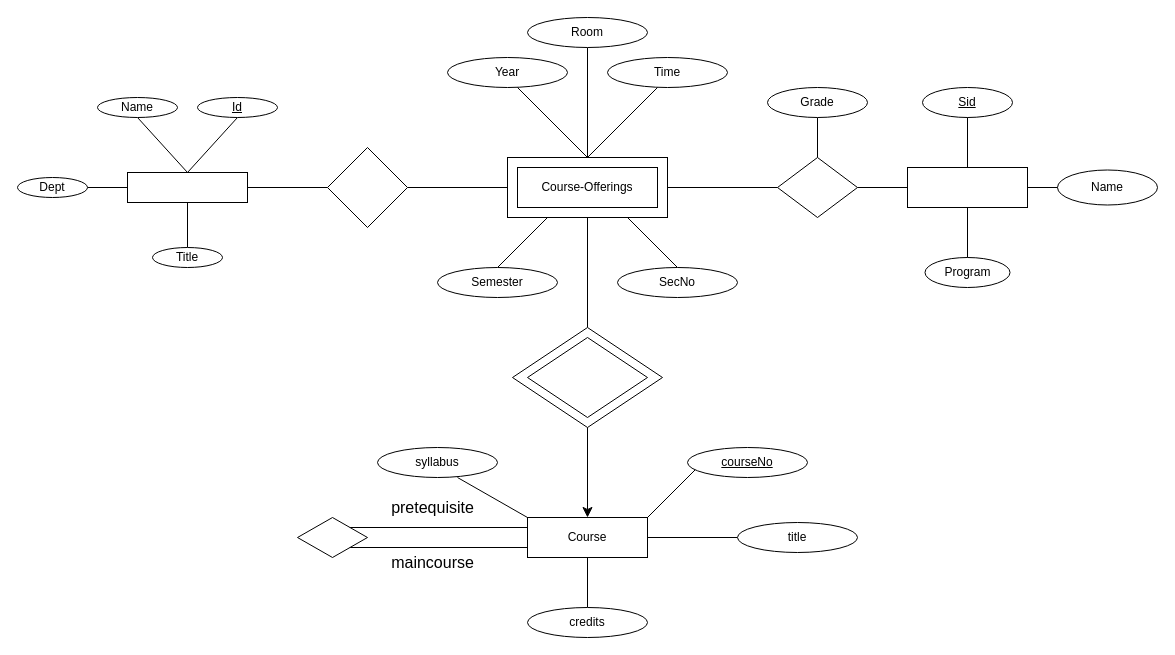
The diagram is 1175 pixels wide and 655 high, and some of its shapes have lost their labels. The shapes that lost their labels are listed below. From the top down, each one's centre as x and y in pixels, then its label:
pixel 187 187: Instructor
pixel 367 187: teaches
pixel 817 187: Enrolls
pixel 967 187: Student
pixel 587 377: Is offered
pixel 332 537: Requires
